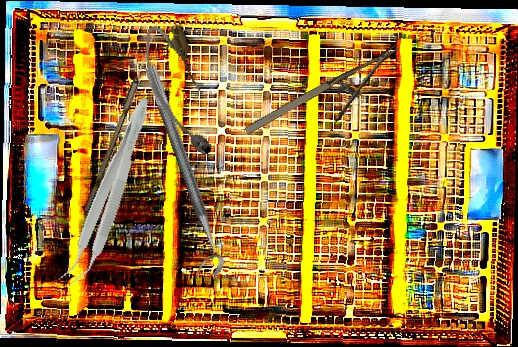Cannula: (136, 18, 221, 164)
Fixation Ring: (125, 64, 229, 281)
Needle Holder: (241, 43, 417, 161)
Surgical Spoon: (83, 32, 158, 213)
Tissue Forceps: (57, 91, 158, 292)
